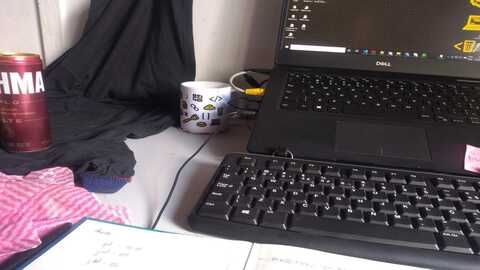duplo_malte: (1, 53, 53, 155)
